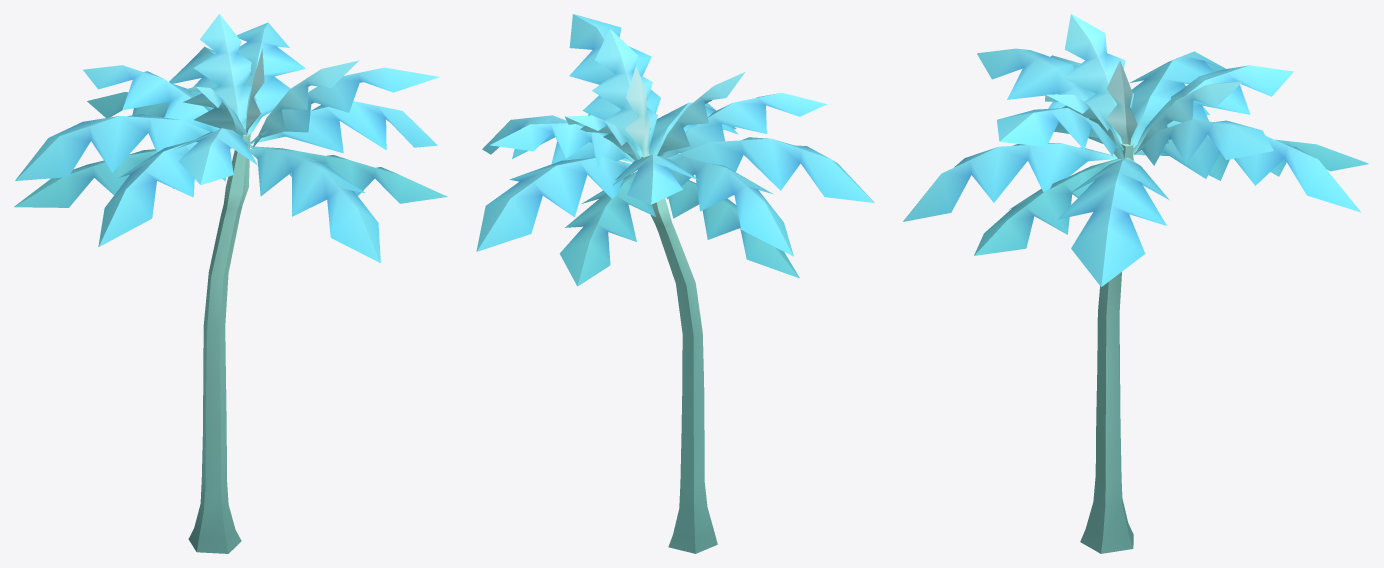
The model's file is alien_tree_lod2.glb.
3 views of the same model, side by side, from view 1: azimuth 30°, elevation 25°; view 2: azimuth 150°, elevation 25°; view 3: azimuth 270°, elevation 25° (orthographic). The views are drawn at different scales.
Visible parts, largest first — view 1: AlienTree; view 2: AlienTree; view 3: AlienTree.
Part boxes in pixels (x1,y1,x2,y2): AlienTree: (14, 14, 447, 553); AlienTree: (476, 14, 874, 553); AlienTree: (903, 14, 1369, 553).
Size of the model in its own units: 3.85 by 4.7 by 3.91.
